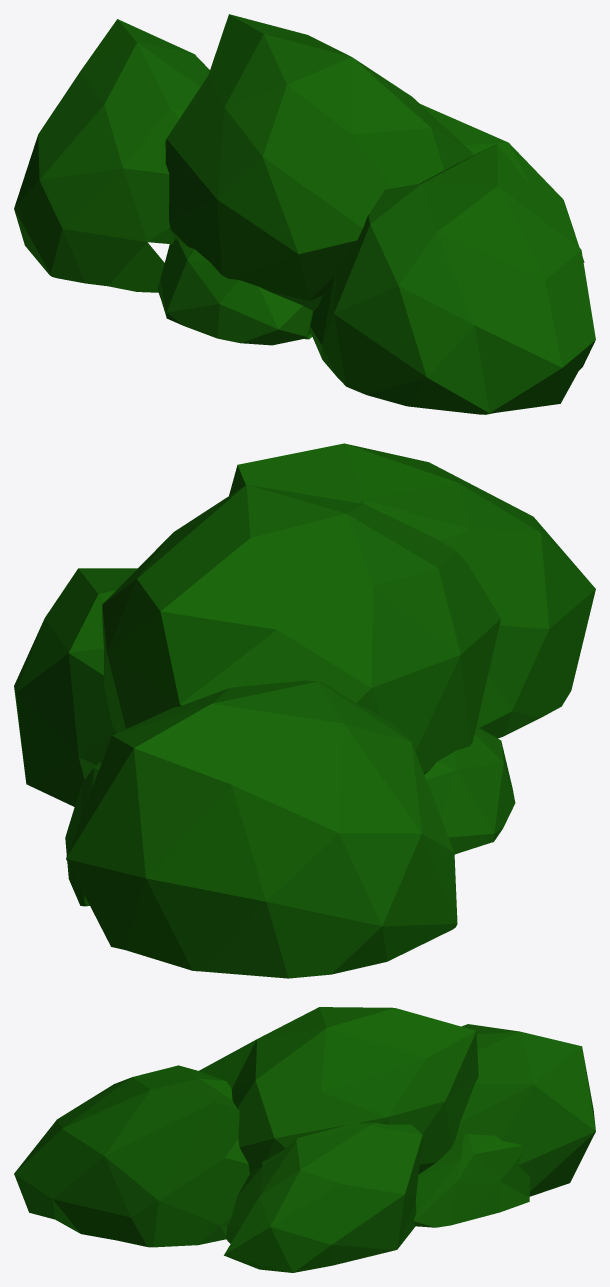
Rendered from Buske2.fbx.
3 views of the same model, one above another, from view 1: azimuth 30°, elevation 25°; view 2: azimuth 150°, elevation 25°; view 3: azimuth 270°, elevation 25° (orthographic). The views are drawn at different scales.
Parts seen in each view (by area): view 1: Icosphere.003; view 2: Icosphere.003; view 3: Icosphere.003.
Part boxes in pixels (x1,y1,x2,y2): Icosphere.003: (14,14,595,414); Icosphere.003: (14,443,595,978); Icosphere.003: (14,1007,595,1272).
Size of the model in its own units: 3.25 by 1.69 by 5.02.
